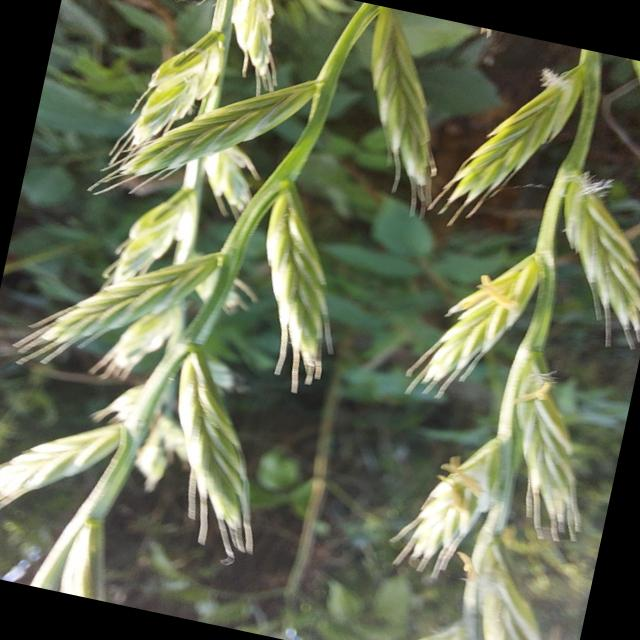Lolium: (0, 0, 415, 639), (298, 16, 640, 640)
